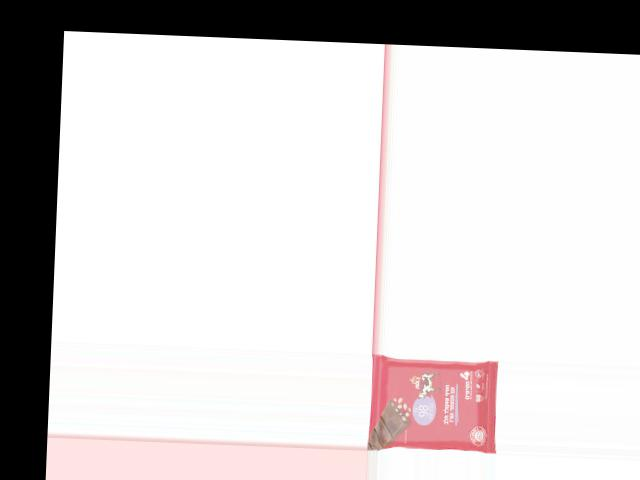chocolate: (369, 354, 500, 451)
